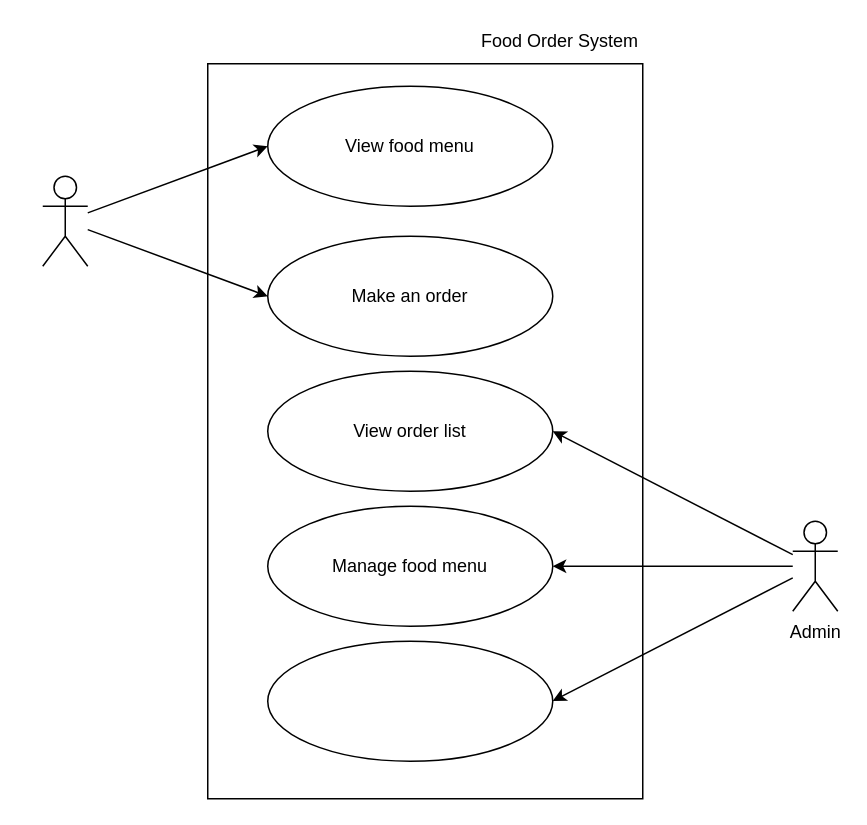
Image size: 867x825. Some labels were removed from this diagram. The shapes that lost their labels are listed below. From the top down, each one's centre as x and y in pixels, then its label:
At (x=64, y=220): "Customer".
At (x=409, y=700): "View registered members".
